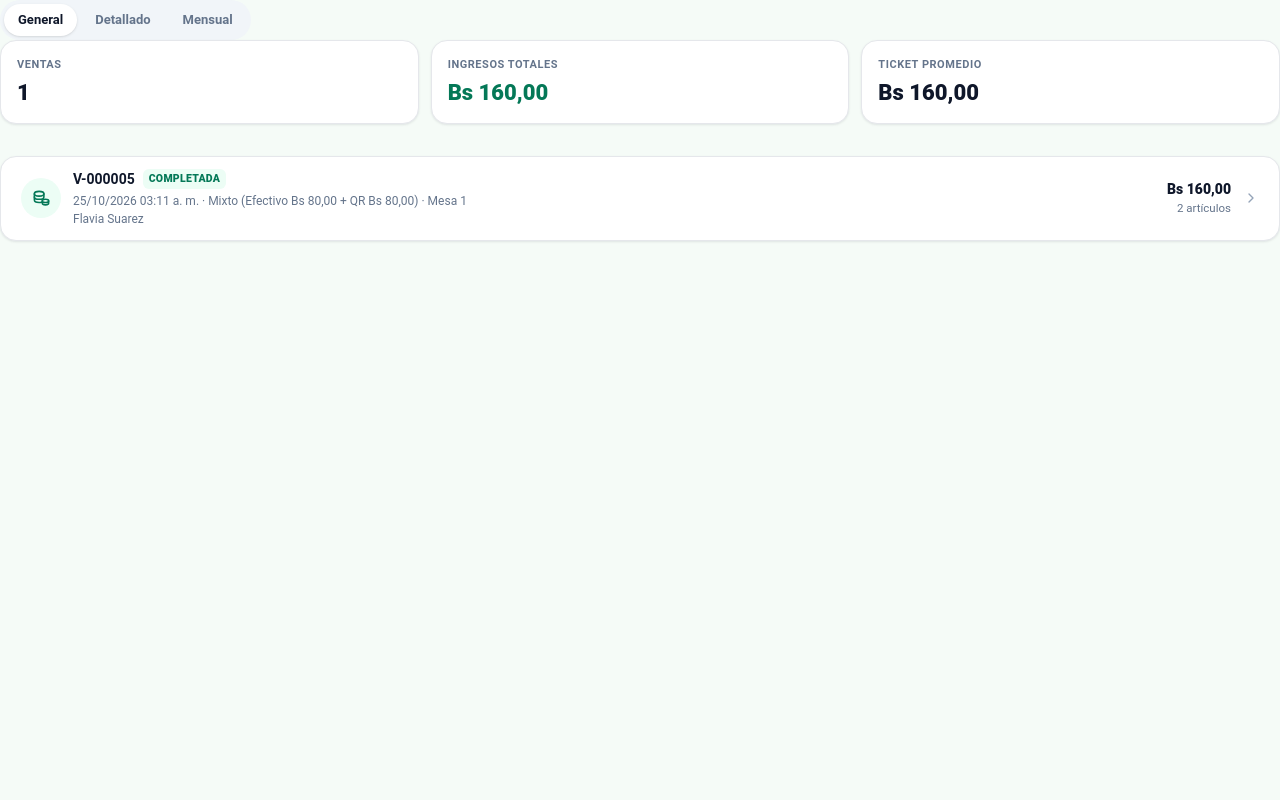
Reportes › Ventas en un billar › el administrador toca la venta y ve su detalle: cómo se pagó, con la hora del adelanto
Click the button "V-000005": (41, 198) [1, 156, 1279, 240]
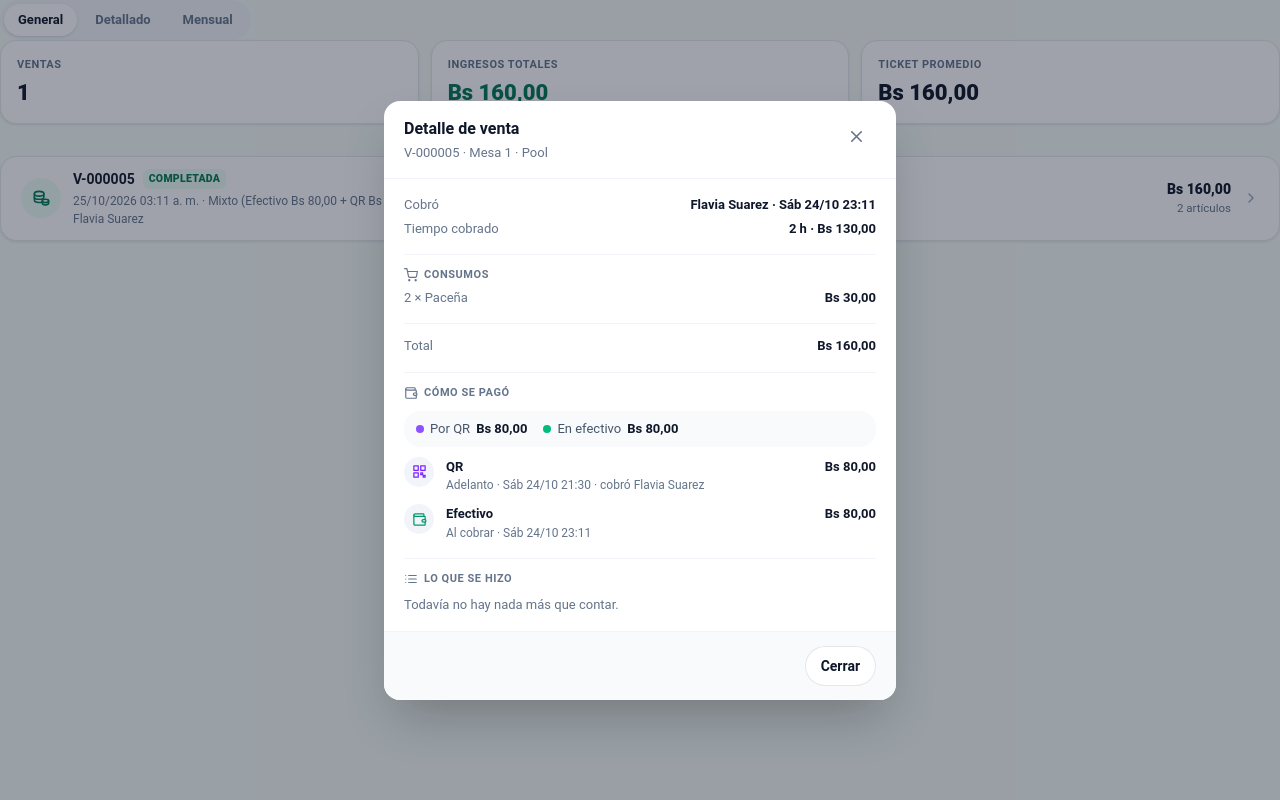
Result: the text "V-000005 · Mesa 1 · Pool" is shown at [404, 142, 548, 162]
Result: the text "Cómo se pagó" is shown at [404, 384, 510, 401]
Result: the text "Adelanto · Sáb 24/10 21:30 · cobró Flavia Suarez" is shown at [446, 478, 704, 492]
